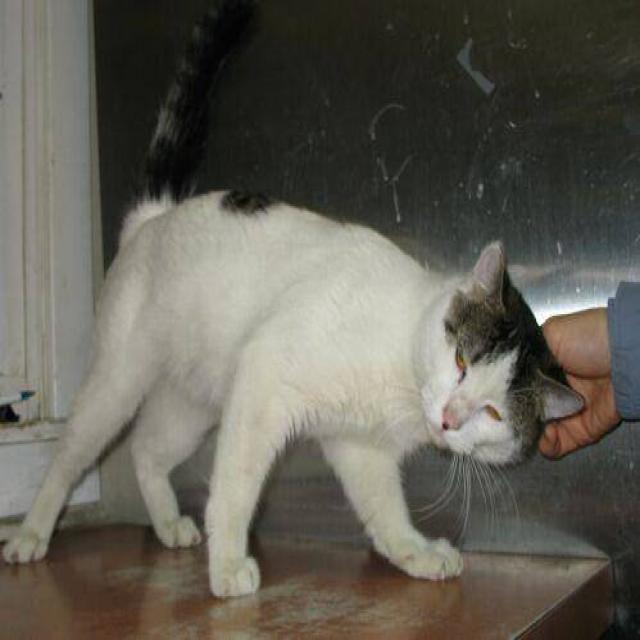cat: (0, 0, 585, 599)
